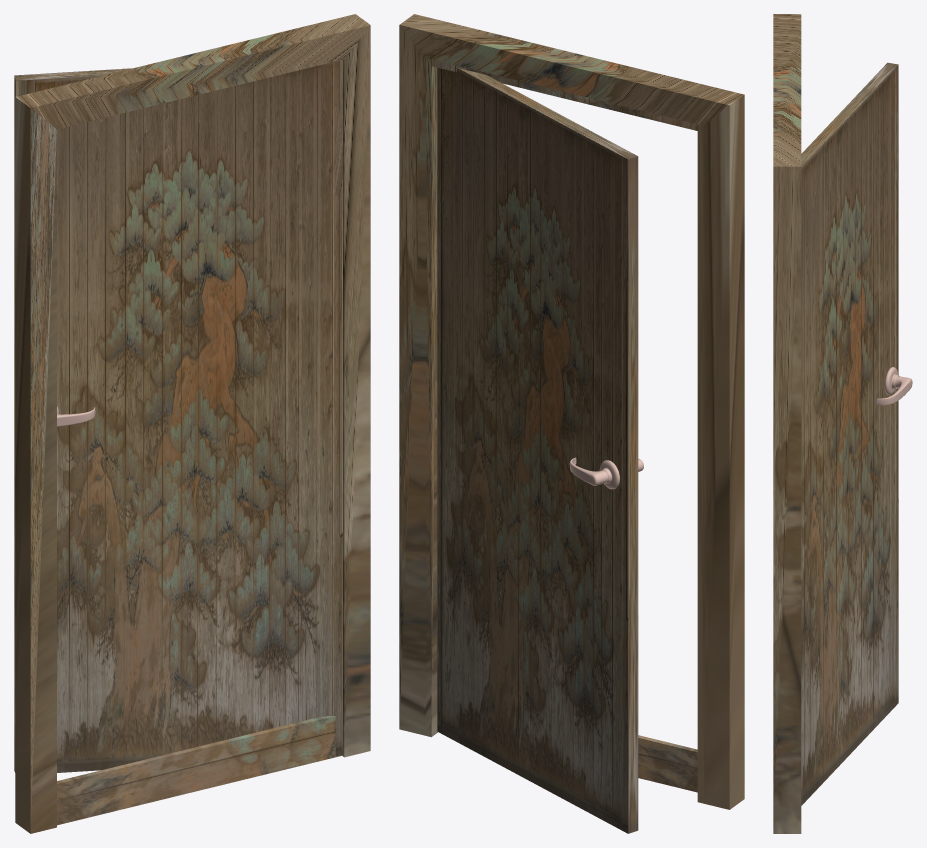
The picture shows the model from 3 angles, left to right: view 1: azimuth 30°, elevation 25°; view 2: azimuth 150°, elevation 25°; view 3: azimuth 270°, elevation 25°; orthographic projection. The views are drawn at different scales.
Parts seen in each view (by area): view 1: Door, DoorFrame, Baseboard; view 2: Door, DoorFrame, Baseboard, Handle_Front; view 3: Door, DoorFrame, Handle_Front.
Part boxes in pixels (x1,y1,x2,y2): Door: [14, 60, 342, 772]; DoorFrame: [15, 14, 370, 833]; Baseboard: [57, 716, 341, 825]; Door: [437, 67, 638, 833]; DoorFrame: [399, 14, 744, 809]; Baseboard: [638, 735, 697, 792]; Handle_Front: [569, 457, 619, 489]; Door: [801, 62, 898, 805]; DoorFrame: [773, 14, 801, 833]; Handle_Front: [876, 367, 912, 405].
Size of what is drawn, in the model's own units: 1.03 by 2.1 by 0.397.
Materials: 3 (2 with a texture image).
